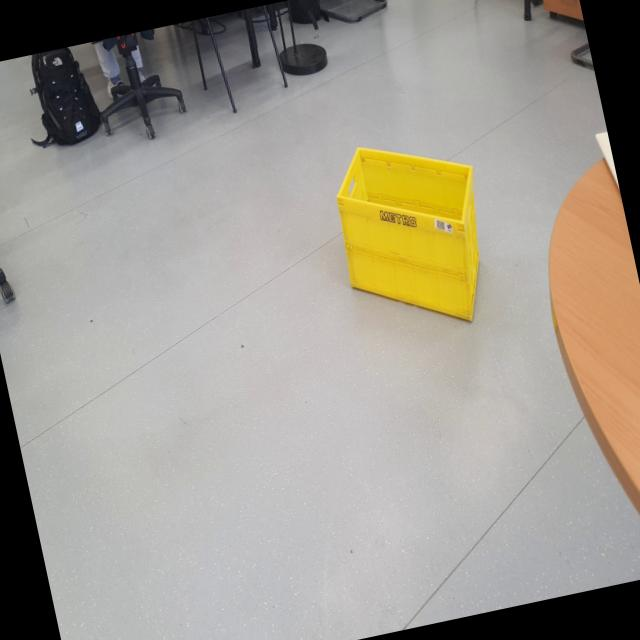box: (313, 110, 510, 350)
